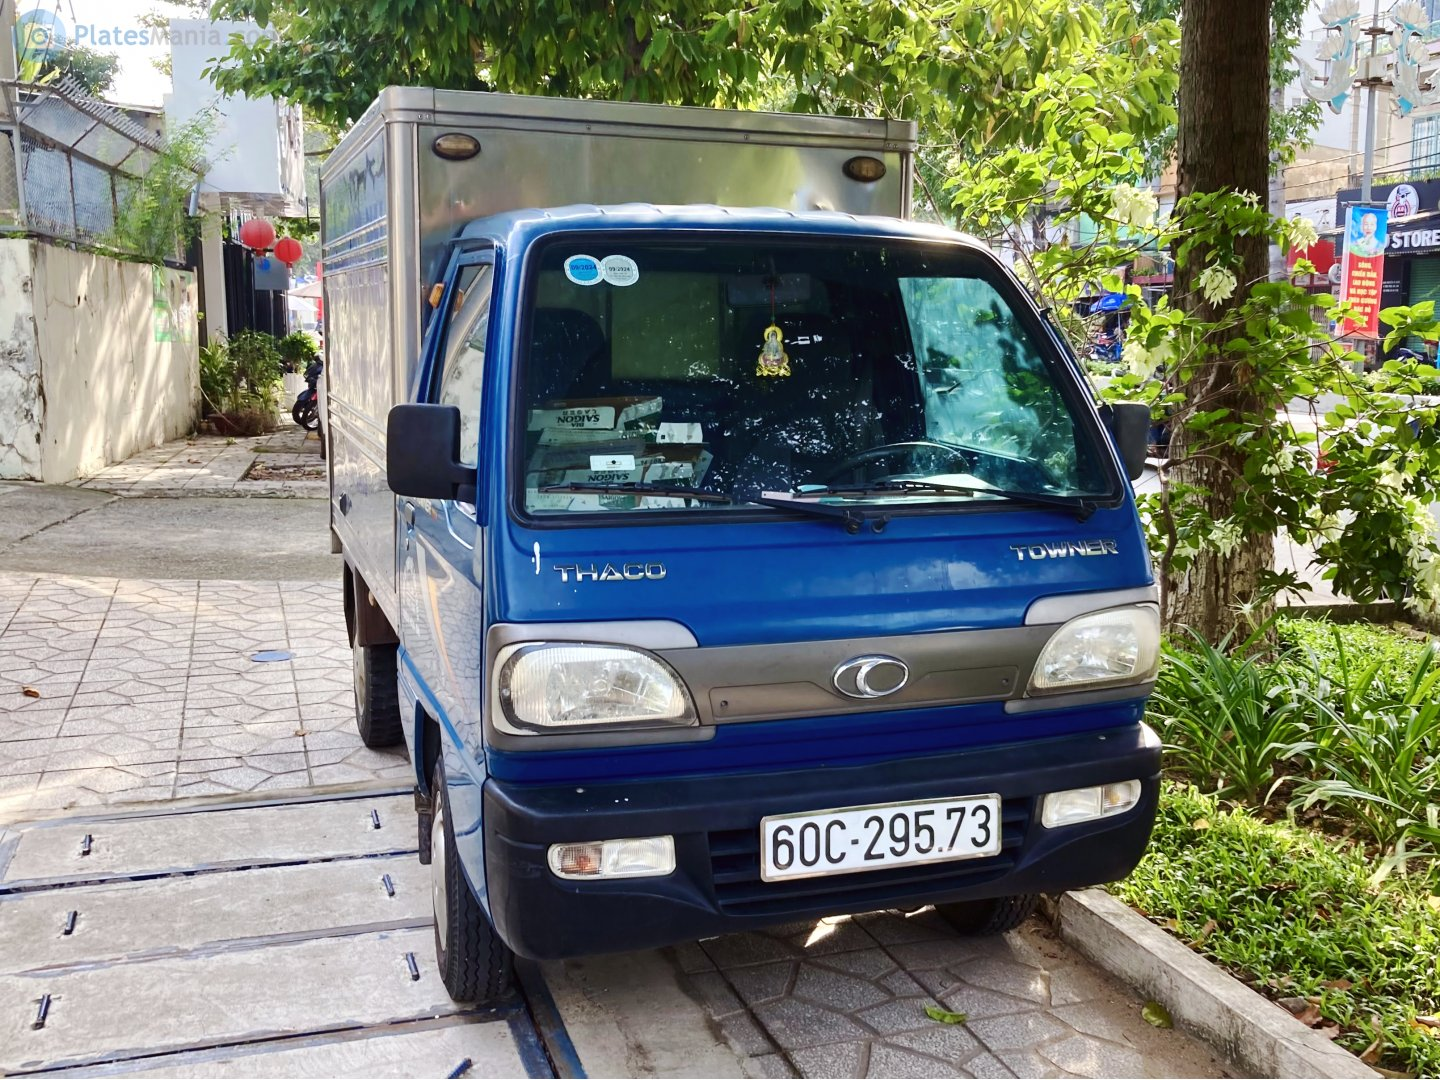bien_so: (762, 796, 1001, 882)
